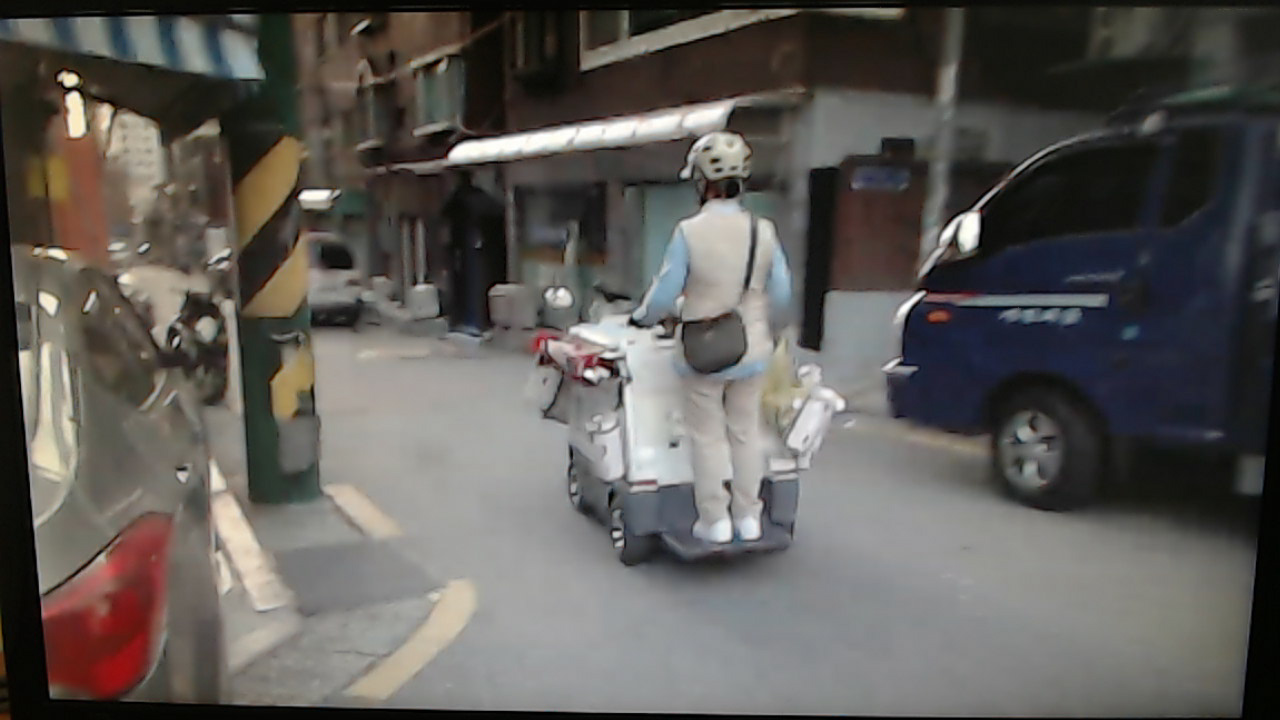Yakurut: (620, 126, 807, 561)
